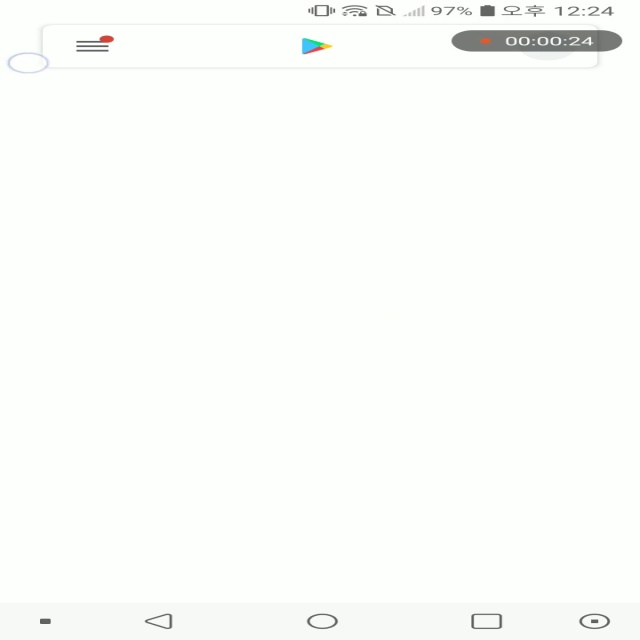Cursor: (8, 53, 52, 75)
